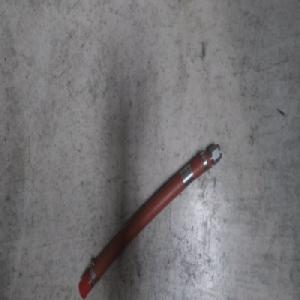Hose: (77, 136, 224, 298)
